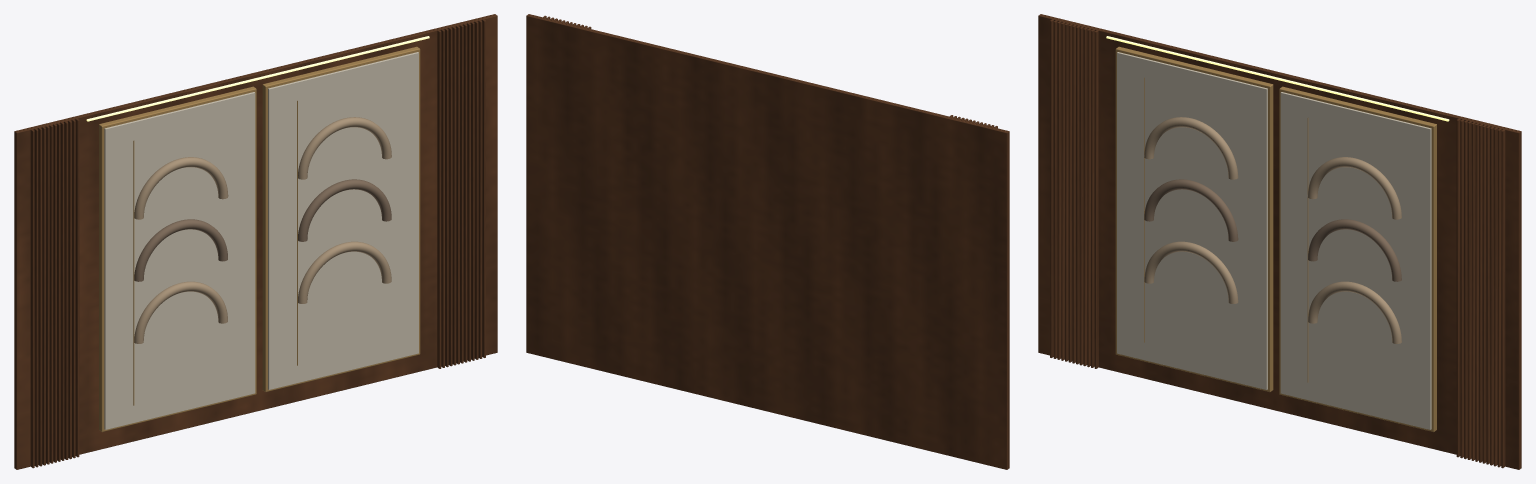
File: astra-pilot--reference-headboard-art.glb
The picture shows the model from 3 angles, left to right: view 1: azimuth 30°, elevation 25°; view 2: azimuth 150°, elevation 25°; view 3: azimuth 330°, elevation 25°; orthographic projection.
Visible parts, largest first — view 1: Natural linen painting ground, Walnut headboard wall, Slim bronze painting frame, Abstract pigment arch, Abstract pigment arch.001, Concealed gallery strip; view 2: Walnut headboard wall; view 3: Natural linen painting ground, Walnut headboard wall, Slim bronze painting frame, Abstract pigment arch, Abstract pigment arch.001, Concealed gallery strip.
Part boxes in pixels (left/top/right/bottom): Natural linen painting ground: left=104, top=52, right=418, bottom=429; Walnut headboard wall: left=14, top=14, right=497, bottom=469; Slim bronze painting frame: left=99, top=46, right=420, bottom=431; Abstract pigment arch: left=134, top=117, right=391, bottom=343; Abstract pigment arch.001: left=134, top=179, right=391, bottom=281; Concealed gallery strip: left=86, top=36, right=429, bottom=121; Walnut headboard wall: left=526, top=14, right=1009, bottom=469; Natural linen painting ground: left=1117, top=52, right=1431, bottom=429; Walnut headboard wall: left=1038, top=14, right=1521, bottom=469; Slim bronze painting frame: left=1115, top=46, right=1436, bottom=431; Abstract pigment arch: left=1144, top=117, right=1401, bottom=343; Abstract pigment arch.001: left=1144, top=179, right=1401, bottom=281; Concealed gallery strip: left=1106, top=36, right=1449, bottom=121.
Bounding box in the file's own units: 1.94 × 1.3 × 0.075.
Materials: 6 (1 with a texture image).
